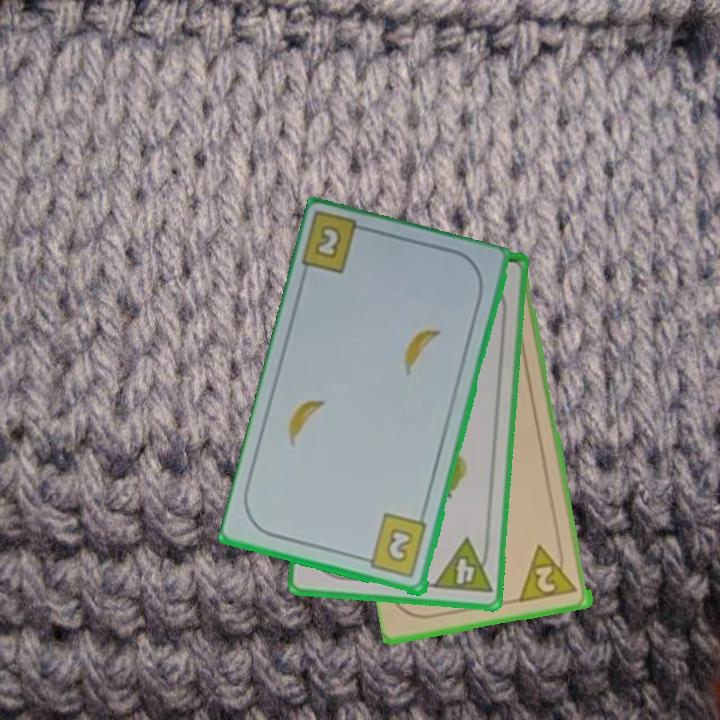2b: (300, 211, 376, 278), (358, 511, 430, 581)
2p: (517, 539, 582, 605)
4p: (429, 535, 495, 597)
